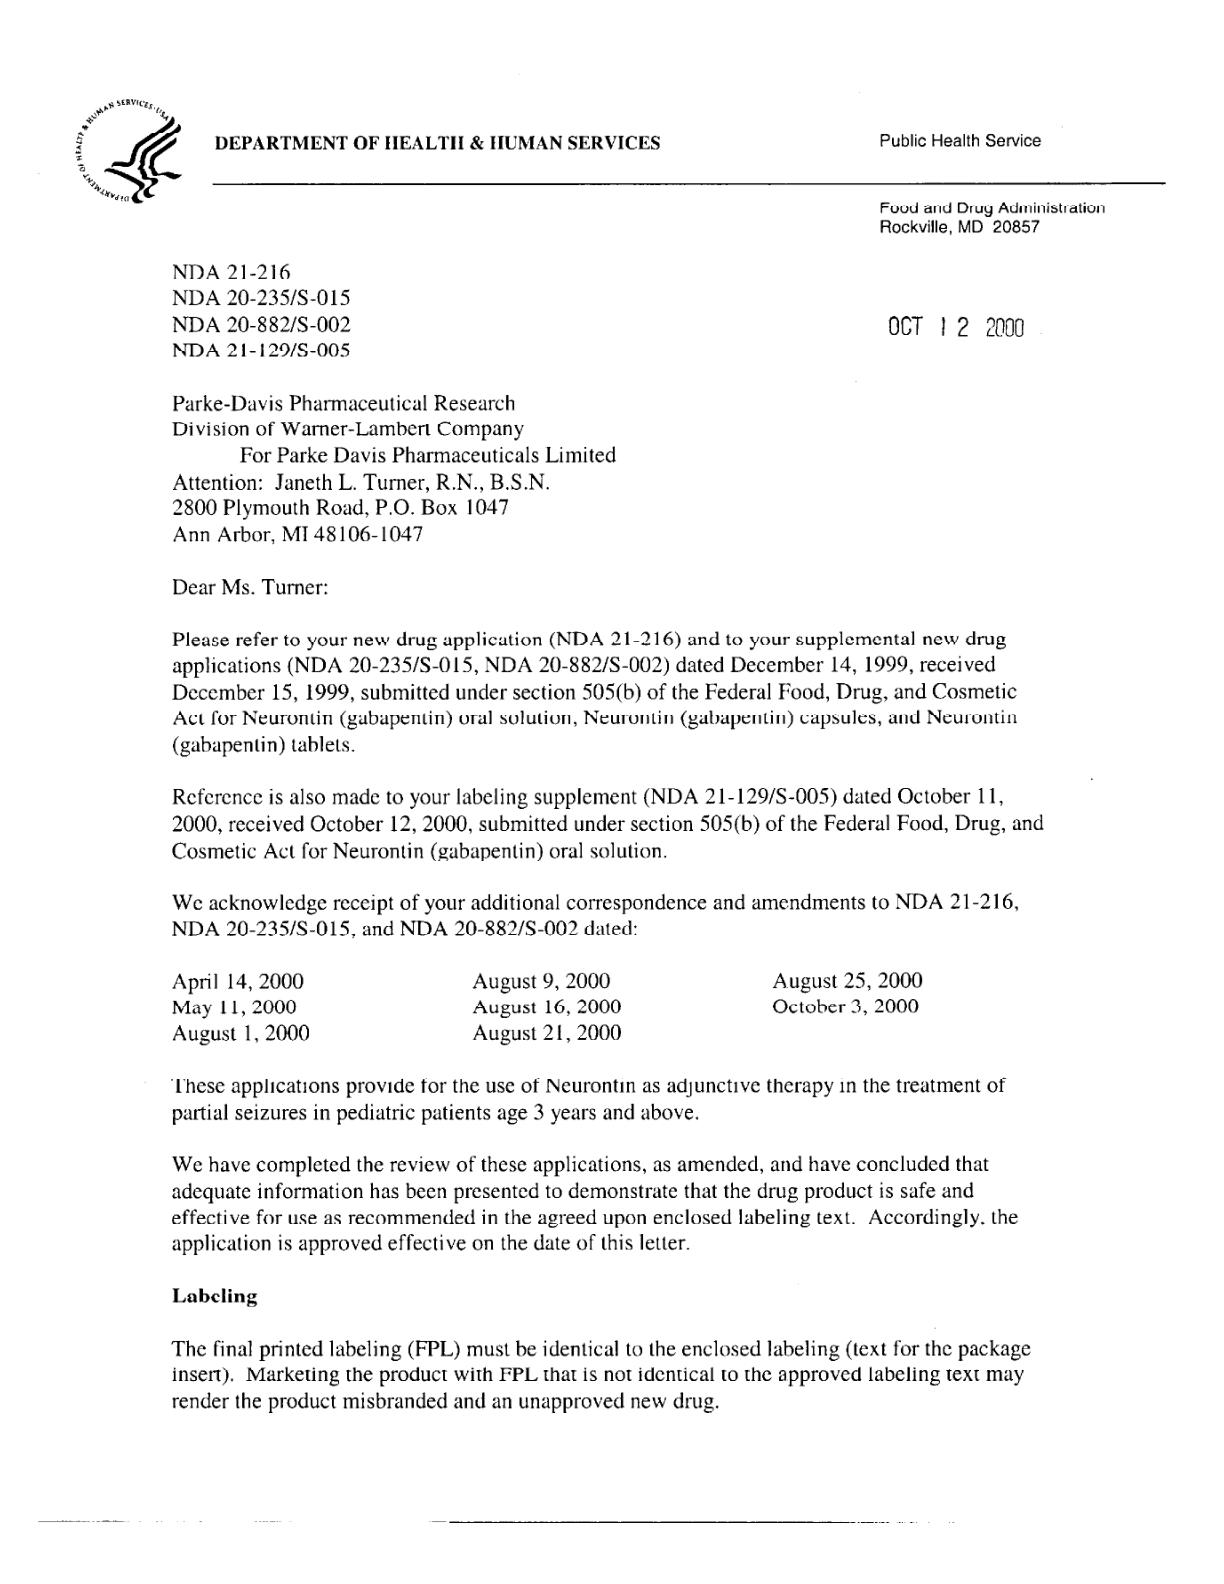nolines: (170, 967, 930, 1045)
